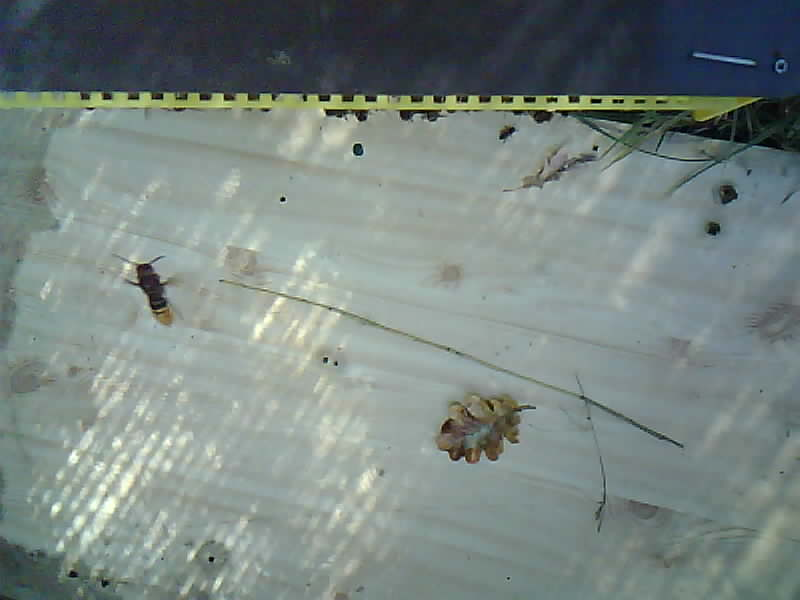hornet: (126, 257, 175, 329)
